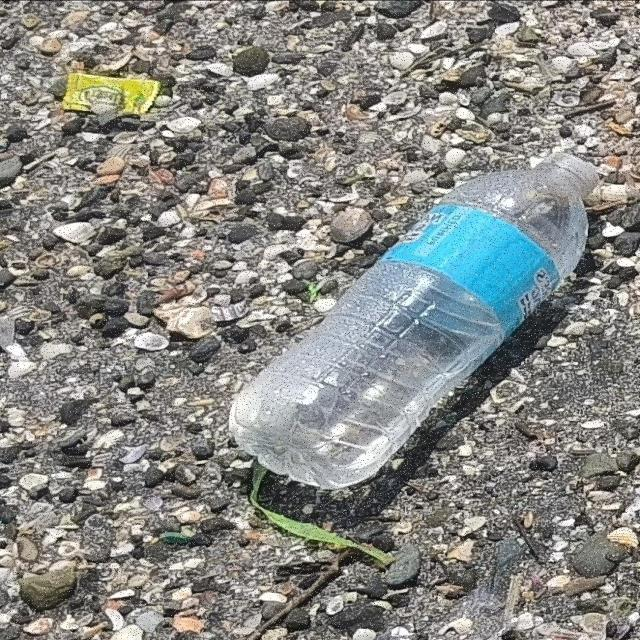plastic_waste: (227, 149, 603, 491), (61, 73, 163, 118)
